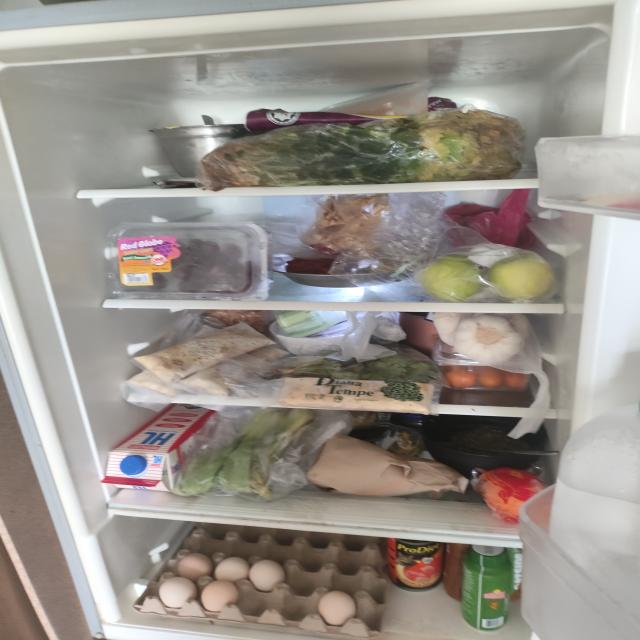apple: (418, 254, 483, 302), (488, 253, 553, 300)
egg: (135, 519, 388, 638)
garlic: (434, 312, 532, 366)
grape: (148, 238, 255, 294)
leafy_greens: (199, 110, 527, 188)
orange: (483, 469, 543, 521)
pakchoy: (177, 410, 314, 499)
tempeh: (127, 322, 290, 398), (280, 377, 435, 416)
